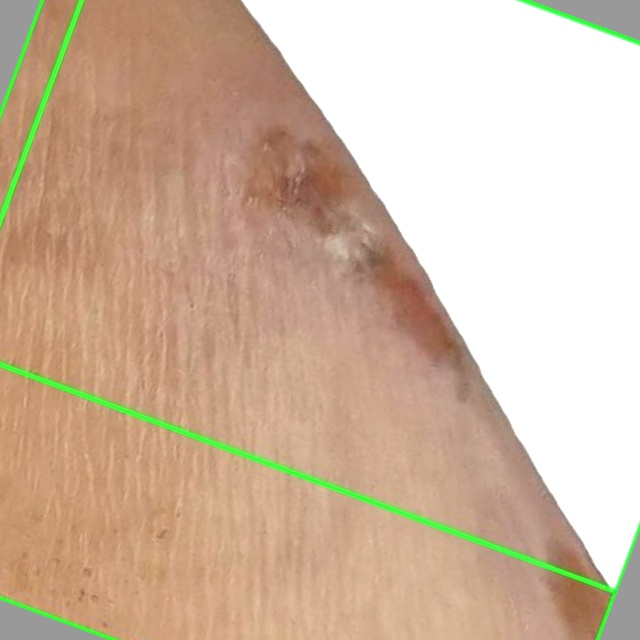Scabies: (0, 0, 639, 639), (0, 0, 639, 590)
